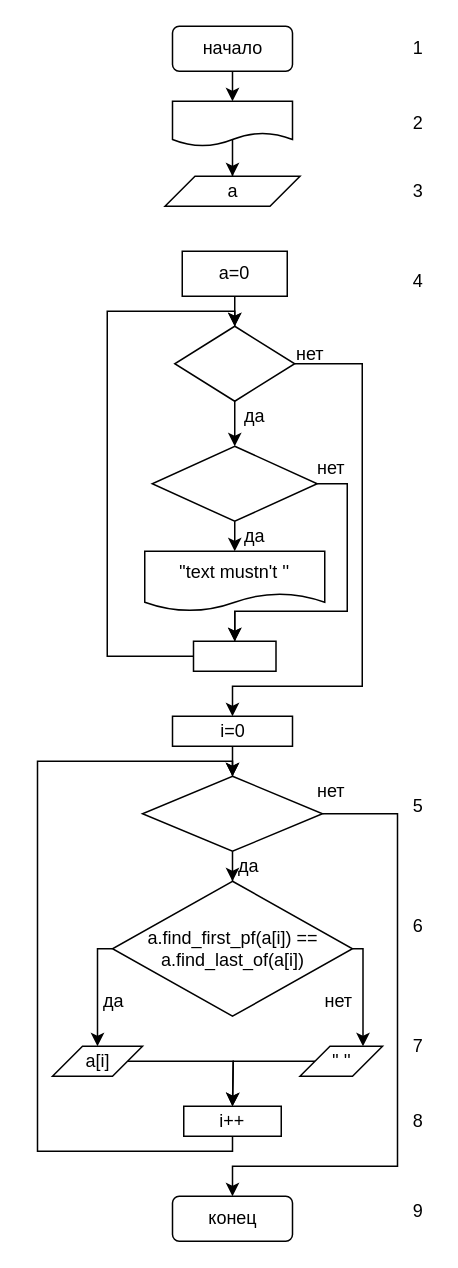
This 458x1268 diagram has some shape labels left out. The shapes that lost their labels are listed below. From the top down, each one's centre as x and y in pixels, then its label:
the point at 231,123: "enter text"
the point at 234,363: a<.length()
the point at 234,483: !isalfa(array[i])
the point at 234,655: a++
the point at 231,813: i < a.length()
